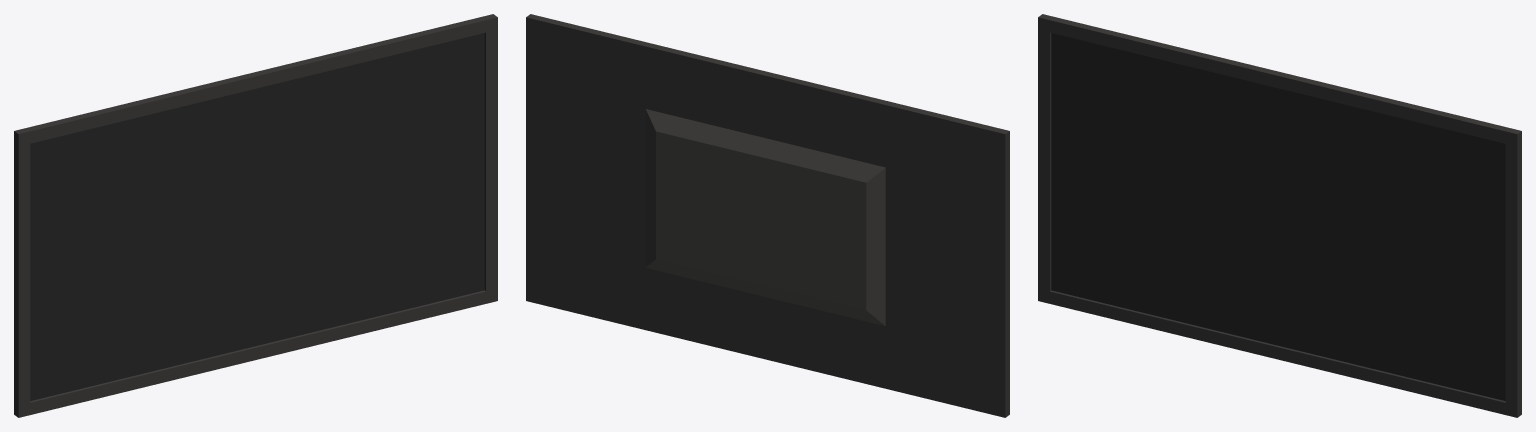
File: SM_Props_Interior_House_Room_TV_02.fbx
3 renders of one model, left to right at view 1: azimuth 30°, elevation 25°; view 2: azimuth 150°, elevation 25°; view 3: azimuth 330°, elevation 25°, orthographic.
Visible parts, largest first — view 1: SM_Props_Interior_House_Room_TV_02; view 2: SM_Props_Interior_House_Room_TV_02; view 3: SM_Props_Interior_House_Room_TV_02.
Part boxes in pixels (x1,y1,x2,y2): SM_Props_Interior_House_Room_TV_02: (14, 14, 497, 417); SM_Props_Interior_House_Room_TV_02: (526, 14, 1009, 417); SM_Props_Interior_House_Room_TV_02: (1038, 14, 1521, 417).
Size of the model in its own units: 122 by 69 by 4.
